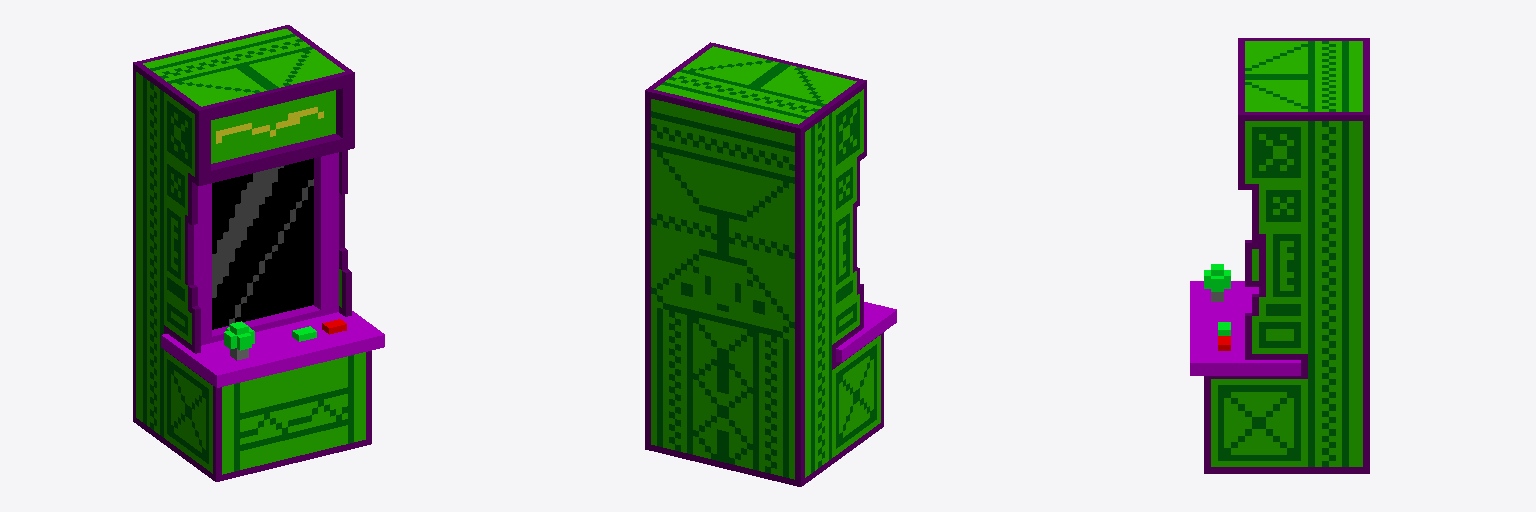
The picture shows the model from 3 angles: view 1: azimuth 30°, elevation 25°; view 2: azimuth 150°, elevation 25°; view 3: azimuth 270°, elevation 25°; orthographic projection.
Parts seen in each view (by area): view 1: object 1; view 2: object 1; view 3: object 1.
Part boxes in pixels (bbox=[...]): object 1: bbox=[133, 25, 384, 481]; object 1: bbox=[645, 42, 896, 486]; object 1: bbox=[1190, 38, 1369, 473].
Size of the model in its own units: 2.8 by 5.7 by 2.6.
Materials: 1 (1 with a texture image).